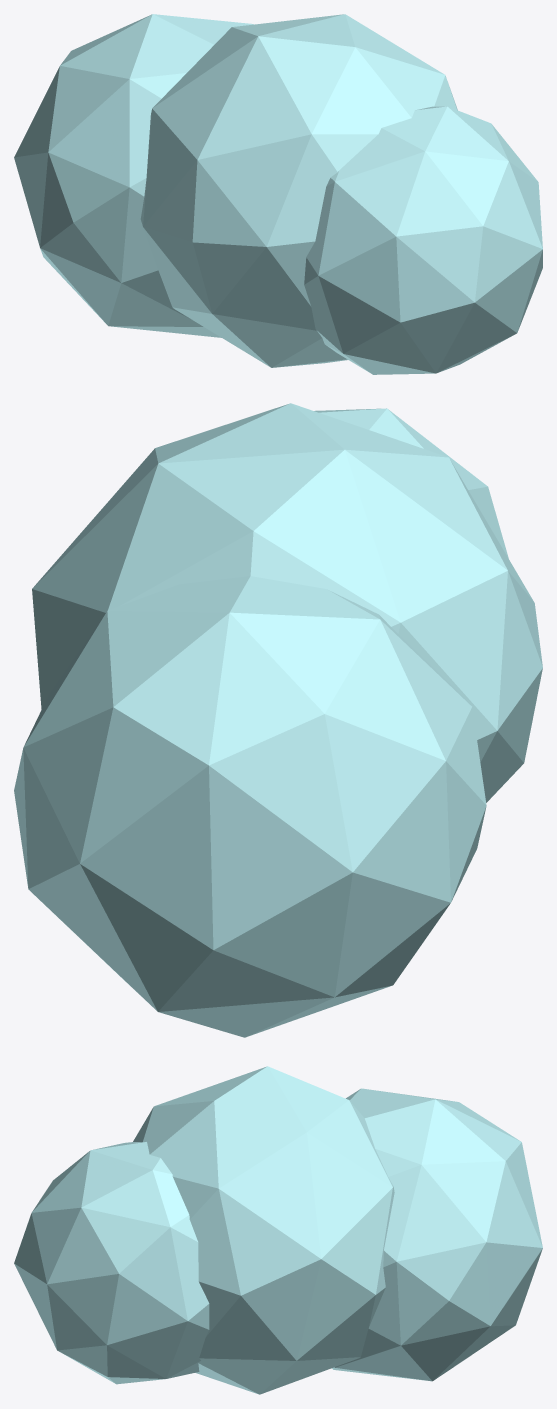
The model's file is cloud7_00008.fbx.
The picture shows the model from 3 angles, top to bottom: view 1: azimuth 30°, elevation 25°; view 2: azimuth 150°, elevation 25°; view 3: azimuth 270°, elevation 25°; orthographic projection. The views are drawn at different scales.
Parts seen in each view (by area): view 1: cloud7; view 2: cloud7; view 3: cloud7.
Part boxes in pixels (box(x1,y1,x2,y2)): cloud7: box(14, 14, 542, 374); cloud7: box(14, 403, 542, 1037); cloud7: box(14, 1066, 542, 1394).
Bounding box in the file's own units: 334 × 306 × 490.
